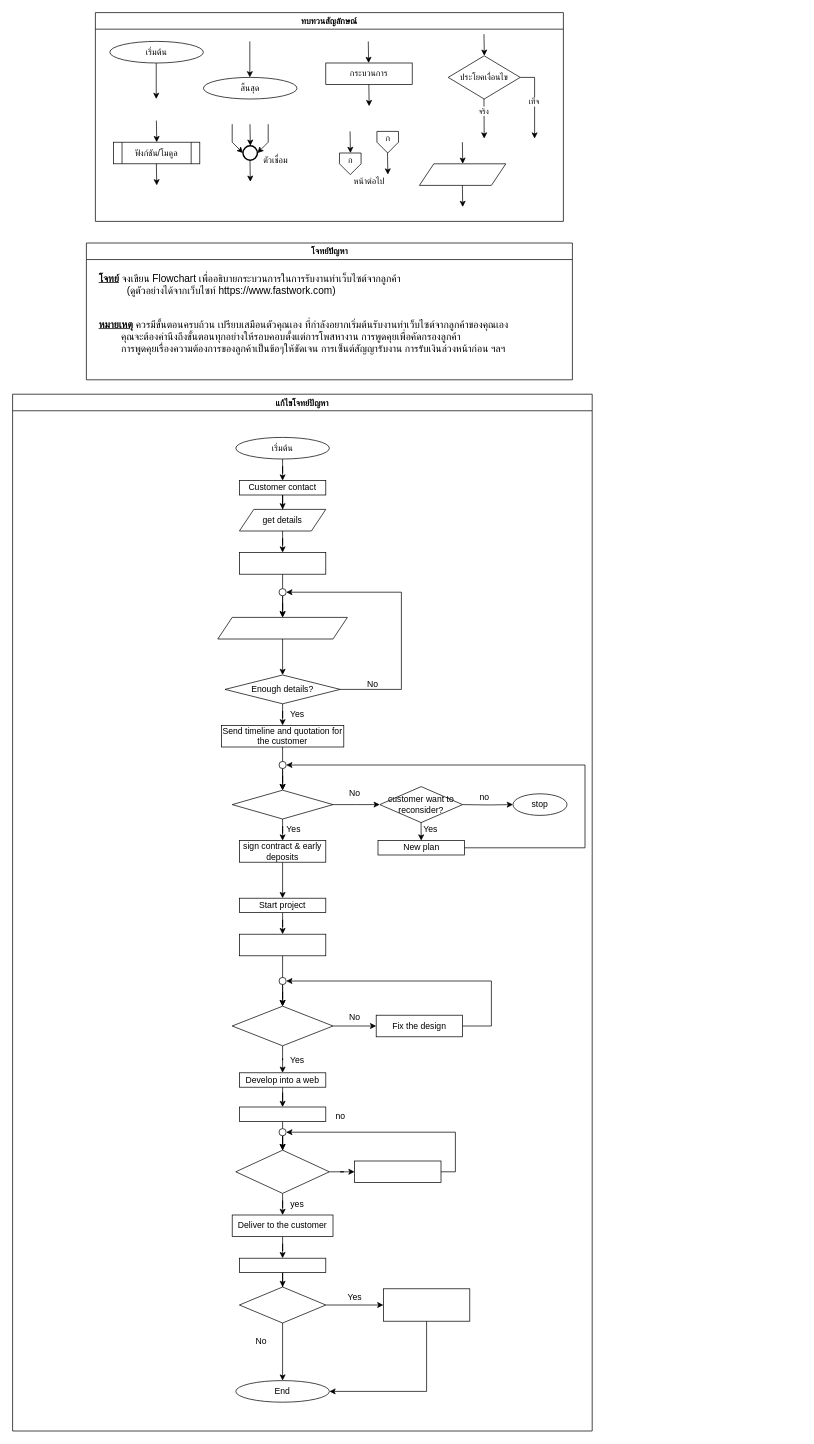
The diagram is 814 pixels wide and 1444 high, and some of its shapes have lost their labels. Each missing label, with the centre of its shape:
"appointed meeting" goes at (x=282, y=563).
"Customer accepted?" goes at (x=282, y=804).
"Customer approve of the design?" goes at (x=282, y=1025).
"customer review approved?" goes at (x=282, y=1171).
"Customer wants maintenance service?" goes at (x=282, y=1304).
"Final payment" goes at (x=282, y=1265).
"Fix according to the feedback" goes at (x=397, y=1171).
"get deeper details on each parts" goes at (x=282, y=628).
"Sign contract for the service" goes at (x=426, y=1304).
"Testing" goes at (x=282, y=1113).
"UI/UX design" goes at (x=282, y=944).
"แสดงผล/รับค่า" goes at (x=462, y=174).
